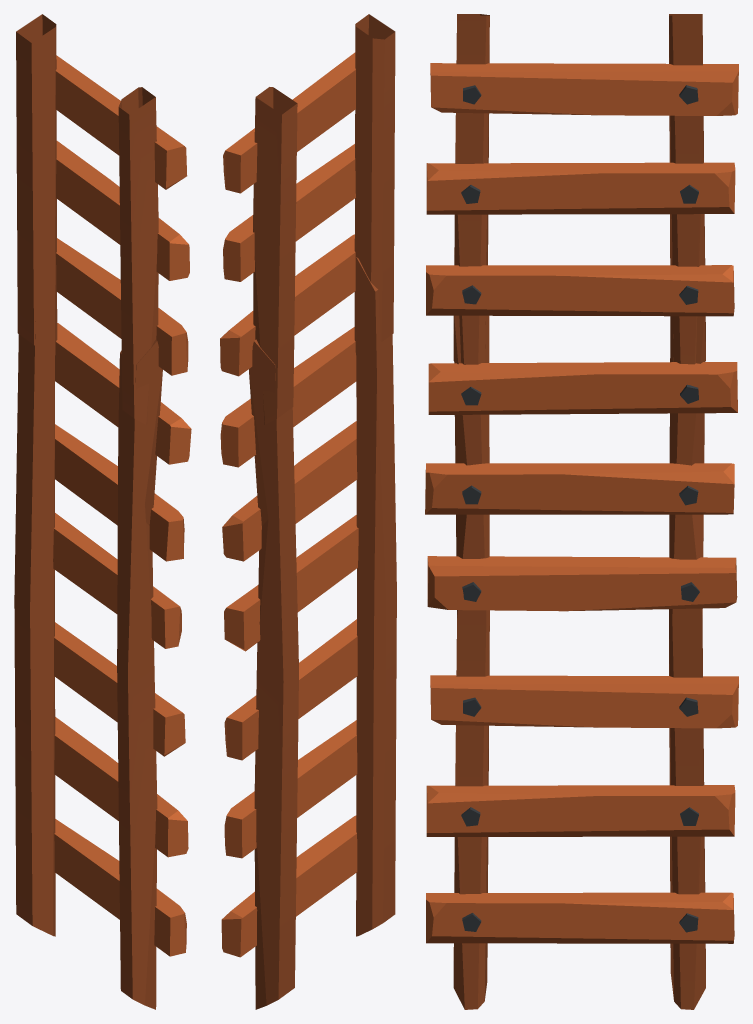
File: louti3.fbx
3 views of the same model, side by side, from view 1: azimuth 30°, elevation 25°; view 2: azimuth 150°, elevation 25°; view 3: azimuth 270°, elevation 25° (orthographic). The views are drawn at different scales.
Visible parts, largest first — view 1: polySurface1498; view 2: polySurface1498; view 3: polySurface1498.
Boxes of the visible parts, left/top/right/bottom form: polySurface1498: left=14, top=14, right=191, bottom=1009; polySurface1498: left=220, top=14, right=396, bottom=1009; polySurface1498: left=425, top=14, right=738, bottom=1009.
Bounding box in the file's own units: 31.27 × 508 × 146.
